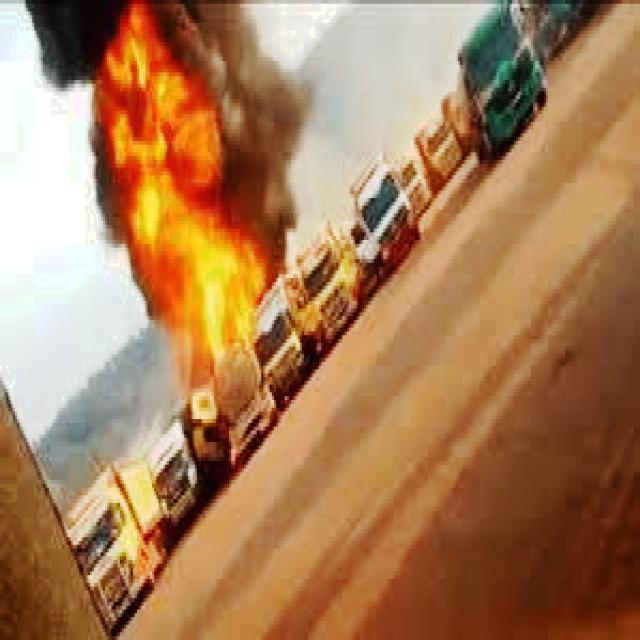api: (70, 39, 294, 363)
